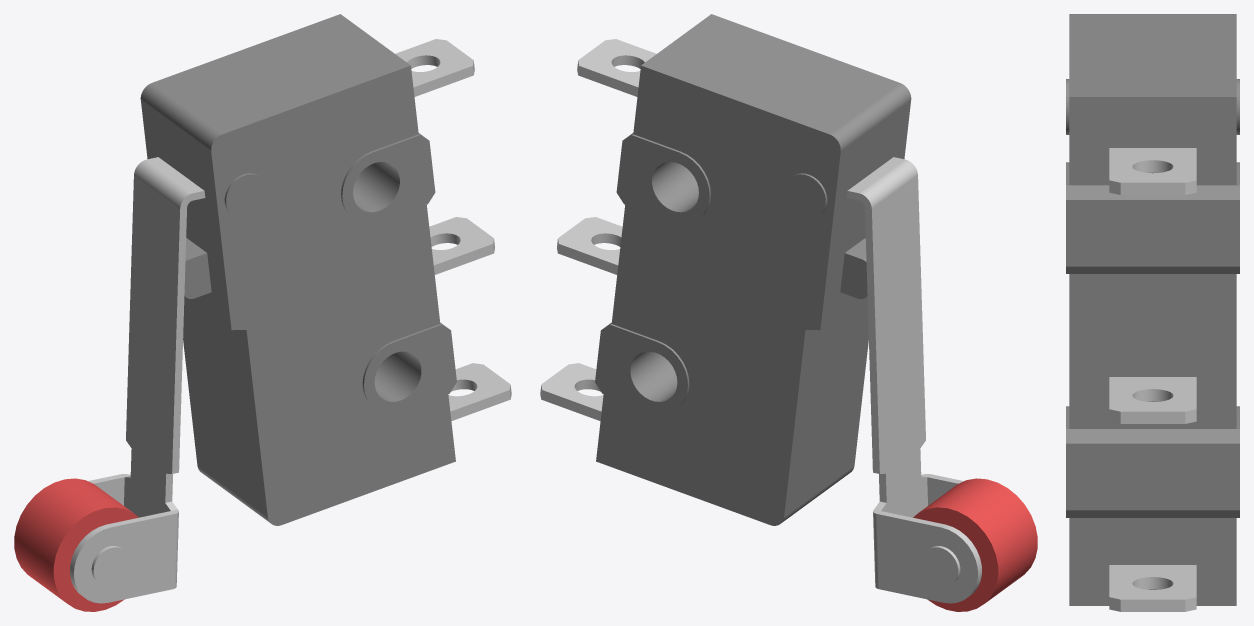
The model's file is Roller_Lever_Limit_Switch___3103_0001_0001_1.gltf.
3 renders of one model, left to right at view 1: azimuth 30°, elevation 25°; view 2: azimuth 150°, elevation 25°; view 3: azimuth 270°, elevation 25°, orthographic. The views are drawn at different scales.
Parts seen in each view (by area): view 1: mesh34528, mesh34612, mesh34530, mesh34531, mesh34589, mesh34620, mesh34629, mesh34541, mesh34550, mesh34630, mesh34602, mesh34543 (+9 smaller); view 2: mesh34559, mesh34612, mesh34530, mesh34531, mesh34589, mesh34621, mesh34629, mesh34546, mesh34555, mesh34628, mesh34601, mesh34543 (+9 smaller); view 3: mesh34571, mesh34530, mesh34542, mesh34580, mesh34551, mesh34562, mesh34587, mesh34577, mesh34568, mesh34544, mesh34554, mesh34545 (+7 smaller).
Part boxes in pixels (bbox=[...]): mesh34528: bbox=[211, 65, 455, 525]; mesh34612: bbox=[124, 175, 179, 517]; mesh34530: bbox=[152, 14, 410, 134]; mesh34531: bbox=[183, 296, 267, 516]; mesh34589: bbox=[141, 100, 231, 329]; mesh34620: bbox=[74, 514, 174, 603]; mesh34629: bbox=[14, 478, 132, 602]; mesh34541: bbox=[364, 325, 456, 413]; mesh34550: bbox=[342, 135, 435, 223]; mesh34630: bbox=[53, 507, 138, 611]; mesh34602: bbox=[172, 191, 205, 473]; mesh34543: bbox=[374, 351, 421, 401]; mesh34559: bbox=[596, 65, 840, 525]; mesh34612: bbox=[872, 175, 927, 517]; mesh34530: bbox=[641, 14, 899, 134]; mesh34531: bbox=[784, 296, 868, 516]; mesh34589: bbox=[820, 100, 910, 329]; mesh34621: bbox=[877, 514, 977, 603]; mesh34629: bbox=[919, 478, 1037, 602]; mesh34546: bbox=[595, 325, 687, 413]; mesh34555: bbox=[616, 135, 709, 223]; mesh34628: bbox=[913, 507, 998, 611]; mesh34601: bbox=[846, 191, 879, 473]; mesh34543: bbox=[630, 351, 677, 401]; mesh34571: bbox=[1069, 274, 1236, 428]; mesh34530: bbox=[1069, 14, 1236, 96]; mesh34542: bbox=[1066, 443, 1239, 510]; mesh34580: bbox=[1069, 97, 1236, 185]; mesh34551: bbox=[1066, 200, 1239, 266]; mesh34562: bbox=[1069, 518, 1236, 605]; mesh34587: bbox=[1109, 148, 1196, 182]; mesh34577: bbox=[1109, 377, 1196, 411]; mesh34568: bbox=[1109, 565, 1196, 599]; mesh34544: bbox=[1066, 429, 1239, 443]; mesh34554: bbox=[1066, 185, 1239, 199]; mesh34545: bbox=[1066, 510, 1239, 517].
Bounding box in the file's own units: 0.0236 × 0.0235 × 0.00644.
